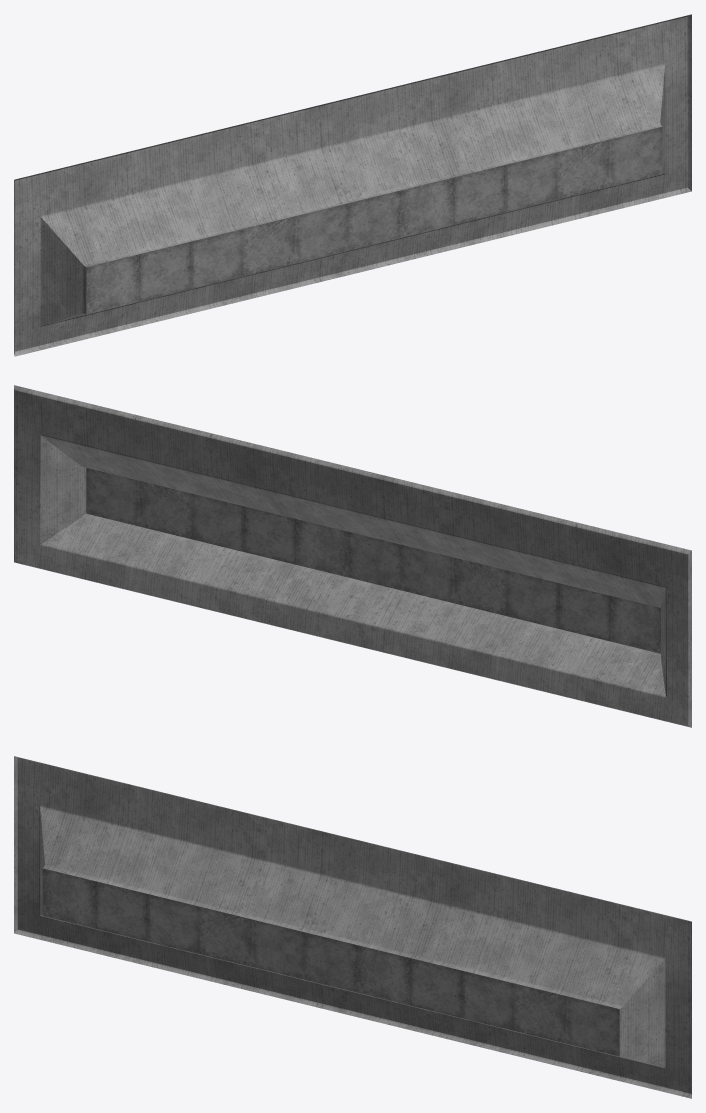
File: SM_Wall_02.fbx
The picture shows the model from 3 angles, top to bottom: view 1: azimuth 30°, elevation 25°; view 2: azimuth 150°, elevation 25°; view 3: azimuth 330°, elevation 25°; orthographic projection.
Parts seen in each view (by area): view 1: SM_Wall_02; view 2: SM_Wall_02; view 3: SM_Wall_02.
Boxes of the visible parts, x1=… form: SM_Wall_02: x1=14, y1=14, x2=691, y2=356; SM_Wall_02: x1=14, y1=385, x2=691, y2=727; SM_Wall_02: x1=14, y1=756, x2=691, y2=1098.
Bounding box in the file's own units: 400 × 100 × 23.93.
